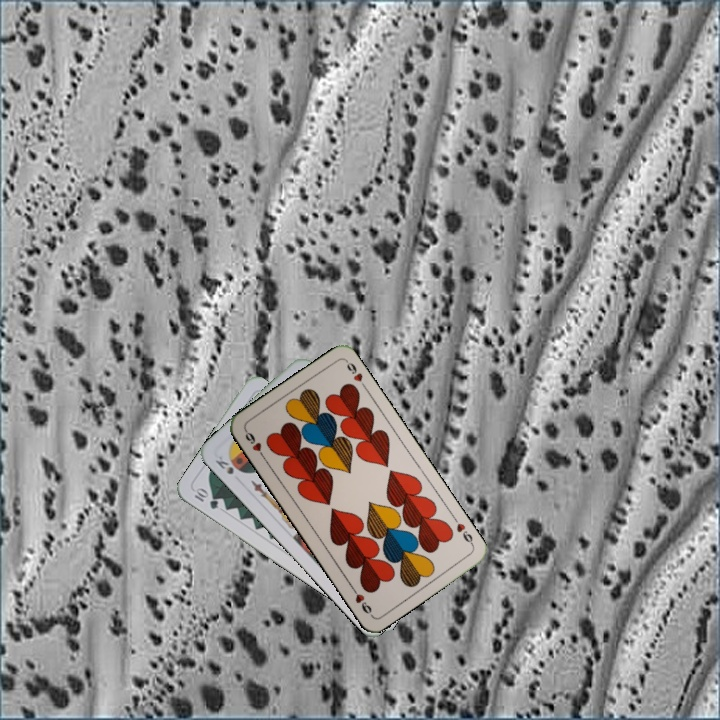G10: (190, 484, 221, 512)
H9: (241, 426, 268, 462), (449, 512, 476, 548)
SK: (211, 452, 237, 477)
